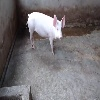heo: (25, 10, 69, 57)
